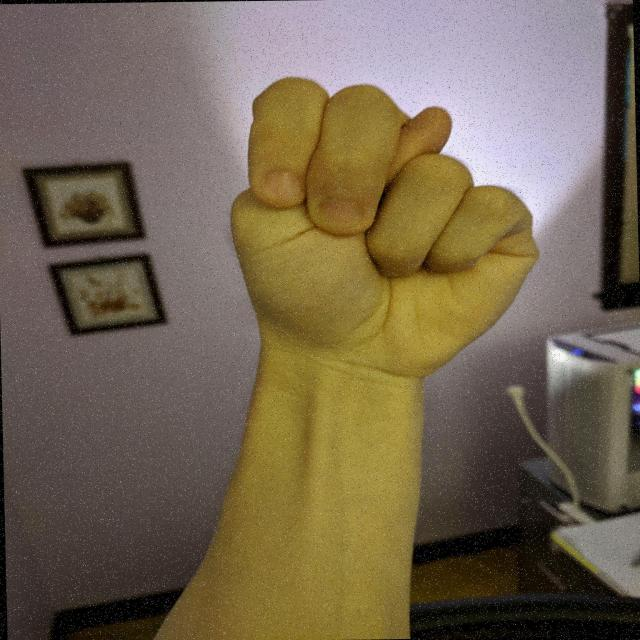N: (217, 69, 548, 387)
